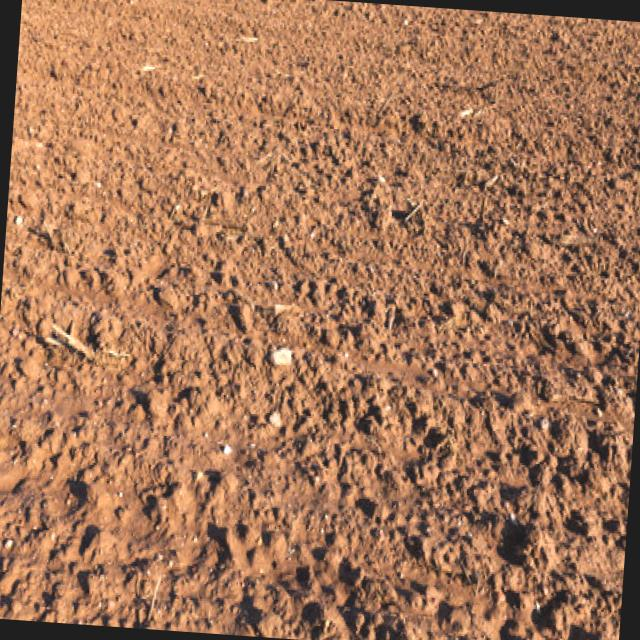suelo_humedo: (324, 99, 554, 612)
